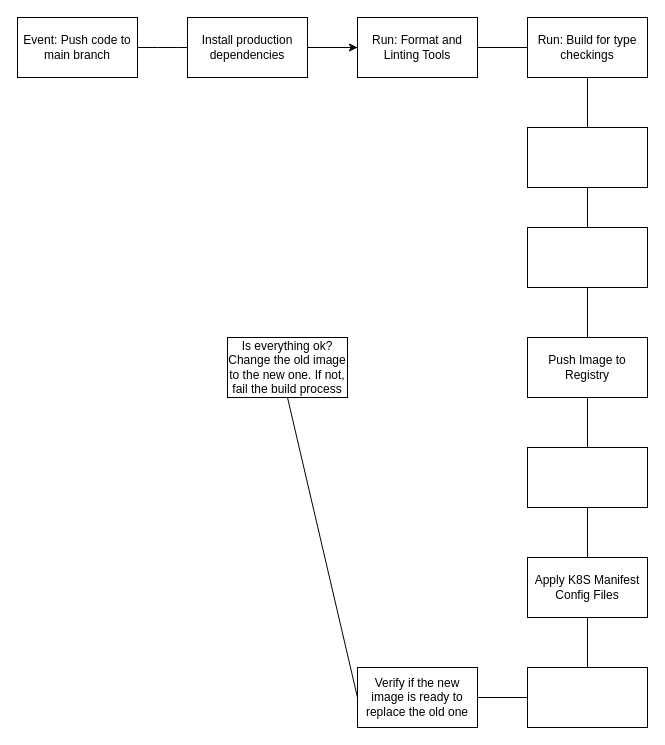
Image size: 665x745. Some labels were removed from this diagram. Here are the shapes that lost their labels. From the top down, the box of each, then its label:
(526, 126, 648, 188): Run: Tests and assure minimum coverage
(526, 226, 648, 288): Build Docker Image
(526, 446, 648, 508): Setup K8S
(526, 666, 648, 728): Update K8S with the new image
